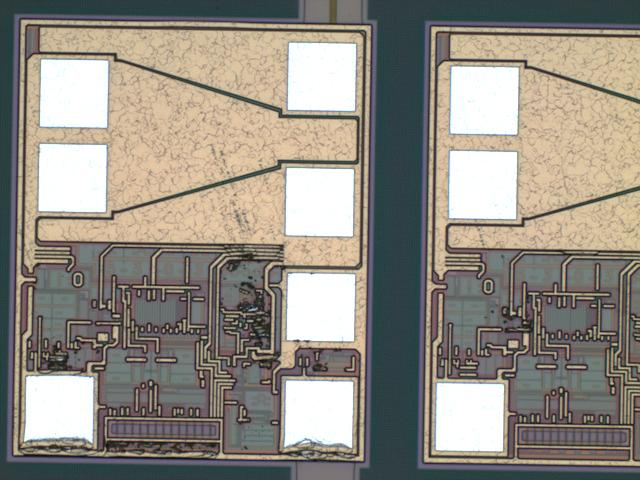SCRATCH: (202, 137, 542, 370)
